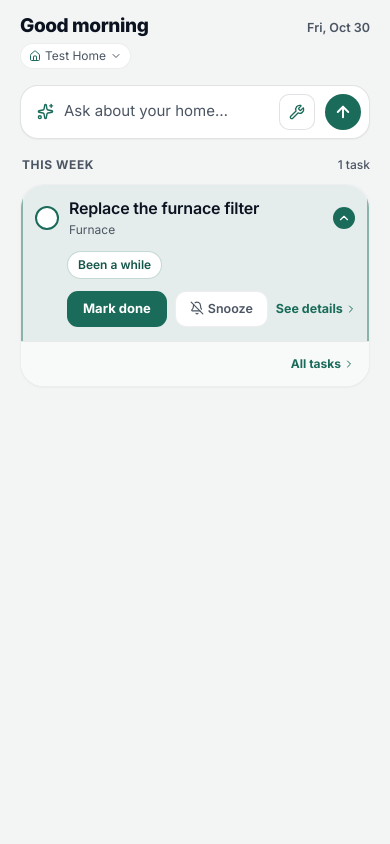
Test case: Home — a completion that landed reads as done, even if its read-back fails › shows the receipt, refetches, and leaves nothing stuck or alarming
Click the button named "Mark Replace the furnace filter done" at (47, 218), box top-left (29, 200), bottom-right (65, 236)
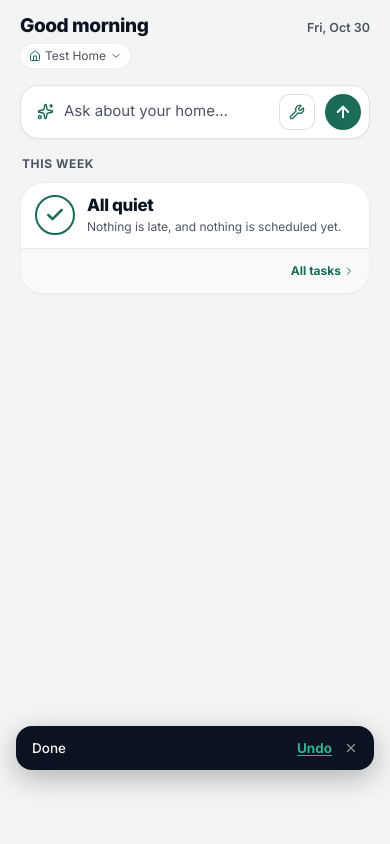
Expected: the message shows "Done", top-left (32, 740), bottom-right (66, 756)
Click the button named "Dismiss" at (351, 748), box top-left (344, 741), bottom-right (358, 755)
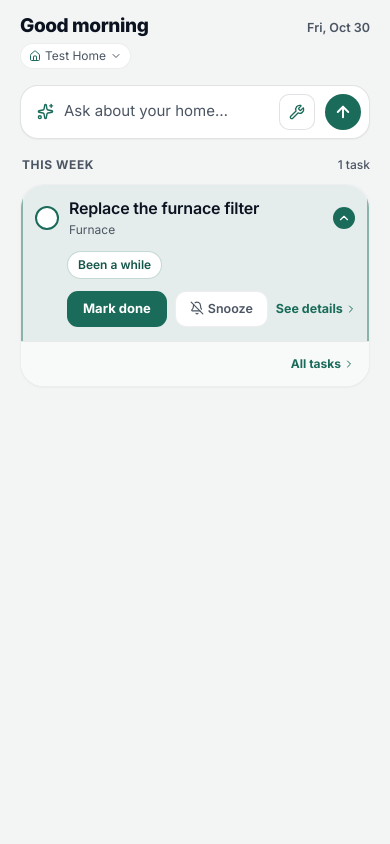
Expected: the message "Done Undo" is gone
